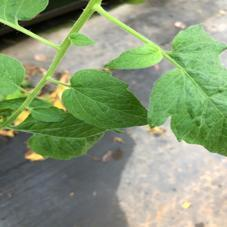Healthy: (148, 26, 227, 158), (62, 68, 148, 130), (20, 109, 108, 162), (102, 42, 164, 71)
